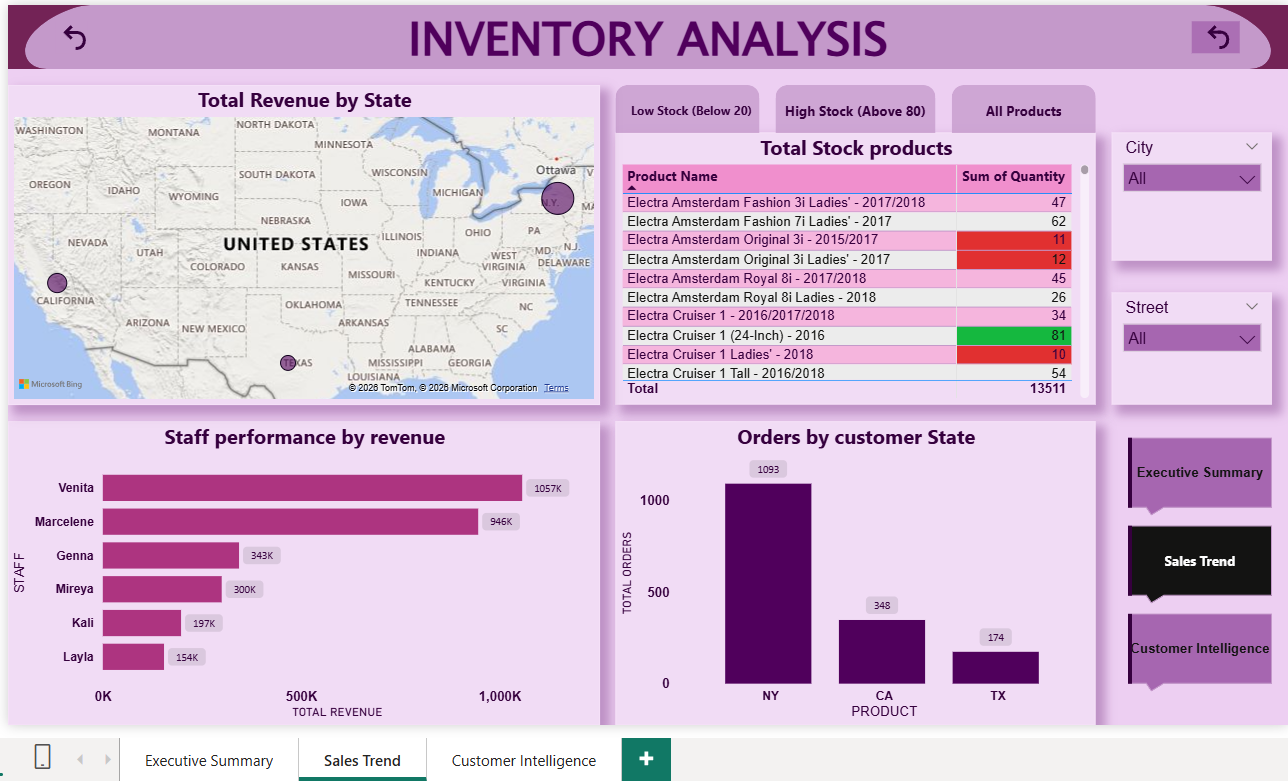

The page's visual inventory and layout, read from the dashboard file:
{"tool":"powerbi","page":{"name":"Sales Trend","canvas":[1280,720],"ordinal":1},"visuals":[{"type":"tableEx","title":"Total Stock products","fields":{"Values":["capstone products.Product_name","Sum(capstone stocks.Quantity)"]},"box":[608,128,480,272],"z":0},{"type":"actionButton","box":[0,0,100,40],"z":1000},{"type":"slicer","fields":{"Values":["capstone customers.City"]},"box":[1104,128,160,128],"z":2000},{"type":"slicer","fields":{"Values":["capstone customers.Street"]},"box":[1104,288,160,112],"z":3000},{"type":"clusteredBarChart","title":"Staff performance by revenue","fields":{"Y":["capstone brands.Total Revenue"],"Category":["capstone staff.First_name","capstone staff.Last_name"]},"box":[0,416,592,304],"z":4000},{"type":"clusteredColumnChart","title":"Orders by customer State","fields":{"Category":["capstone customers.State"],"Y":["capstone brands.Total Orders"]},"box":[608,416,480,304],"z":5000},{"type":"shape","box":[0,0,1280,64],"z":6000},{"type":"pageNavigator","box":[1120,432,144,256],"z":7000},{"type":"actionButton","box":[1184,16,48,32],"z":8000},{"type":"actionButton","box":[48,16,32,32],"z":9000},{"type":"actionButton","box":[608,80,144,48],"z":10000},{"type":"actionButton","box":[768,80,160,48],"z":11000},{"type":"actionButton","box":[944,80,144,48],"z":12000},{"type":"map","fields":{"Category":["capstone stores.State"],"Size":["capstone brands.Total Revenue"]},"box":[0,80,592,320],"z":13000}]}

Visuals, with their boxes on the page's 1280x720 design canvas (x1, y1, x2, y2). These are canvas units, not pixel positions in the 1288x781 screenshot, which may show the page scaled, cropped or inside an application window:
"Total Stock products" tableEx: {"left": 608, "top": 128, "right": 1088, "bottom": 400}
actionButton: {"left": 0, "top": 0, "right": 100, "bottom": 40}
slicer - capstone customers.City: {"left": 1104, "top": 128, "right": 1264, "bottom": 256}
slicer - capstone customers.Street: {"left": 1104, "top": 288, "right": 1264, "bottom": 400}
"Staff performance by revenue" clusteredBarChart: {"left": 0, "top": 416, "right": 592, "bottom": 720}
"Orders by customer State" clusteredColumnChart: {"left": 608, "top": 416, "right": 1088, "bottom": 720}
shape: {"left": 0, "top": 0, "right": 1280, "bottom": 64}
pageNavigator: {"left": 1120, "top": 432, "right": 1264, "bottom": 688}
actionButton: {"left": 1184, "top": 16, "right": 1232, "bottom": 48}
actionButton: {"left": 48, "top": 16, "right": 80, "bottom": 48}
actionButton: {"left": 608, "top": 80, "right": 752, "bottom": 128}
actionButton: {"left": 768, "top": 80, "right": 928, "bottom": 128}
actionButton: {"left": 944, "top": 80, "right": 1088, "bottom": 128}
map - capstone stores.State x capstone brands.Total Revenue: {"left": 0, "top": 80, "right": 592, "bottom": 400}
